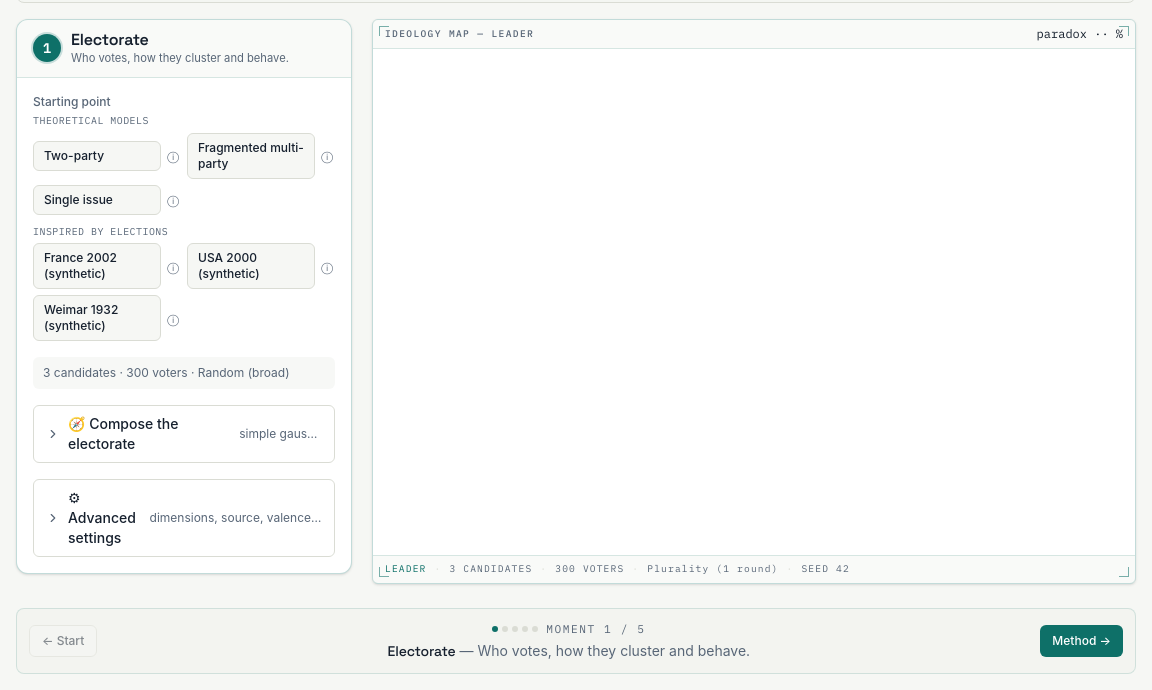
Test: PlaygroundPage (P0 shell) › the dimension knob reshapes the leader canvas (1-D line, 3-D z controls)
(page scrolled)
Click the button with test id "electorate-advanced-toggle".
click(184, 518)  # box [34,480,334,556]
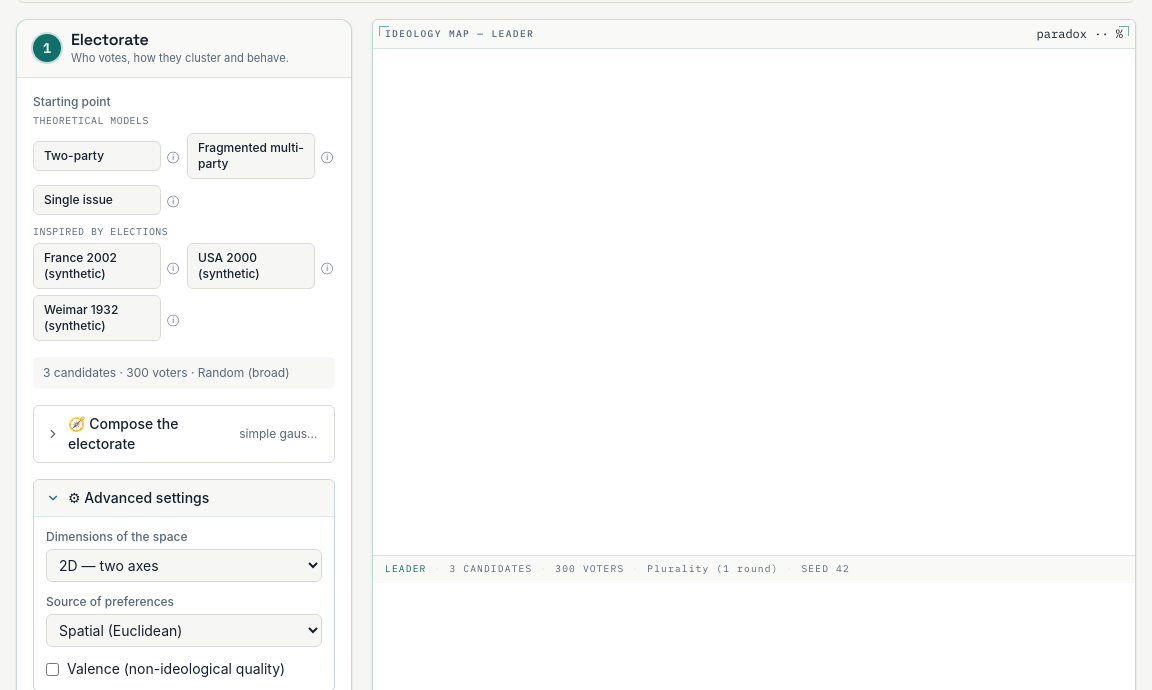
# 1-D → the canvas collapses to a line.
Select "1D — a single axis" in the dropdown labelled "Dimensions of the space" at (184, 566), box [46,549,322,582]
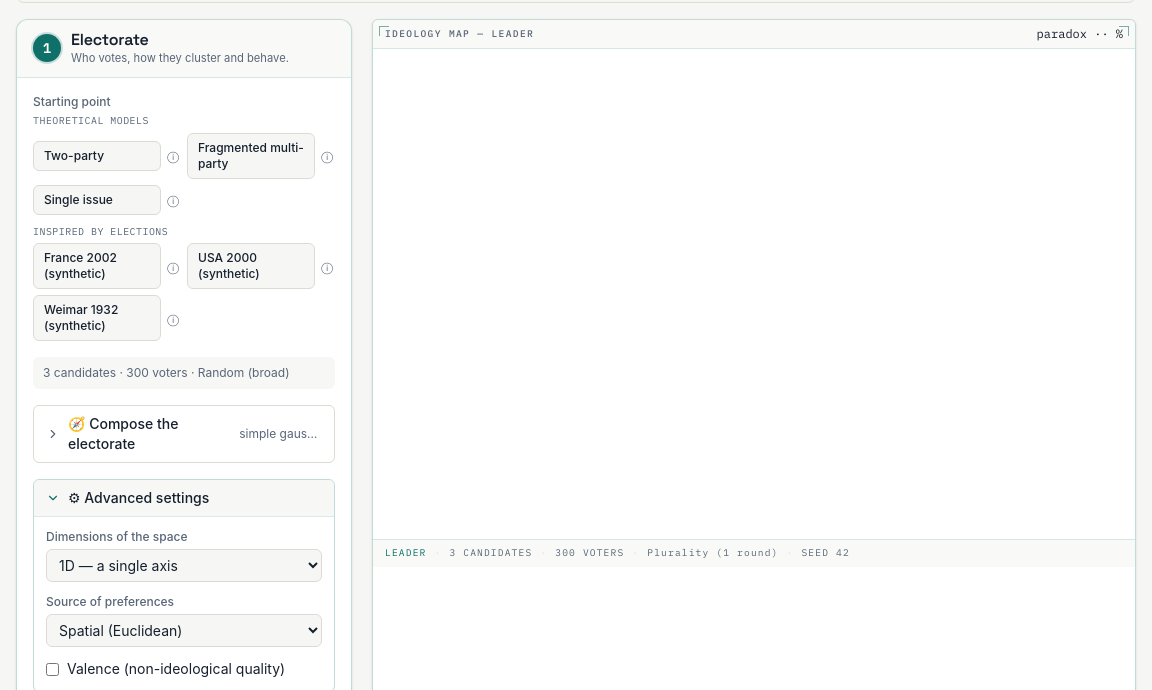
# 3-D → per-candidate z sliders appear.
Select "3D — three axes" in the dropdown labelled "Dimensions of the space" at (184, 566), box [46,549,322,582]
(page scrolled)
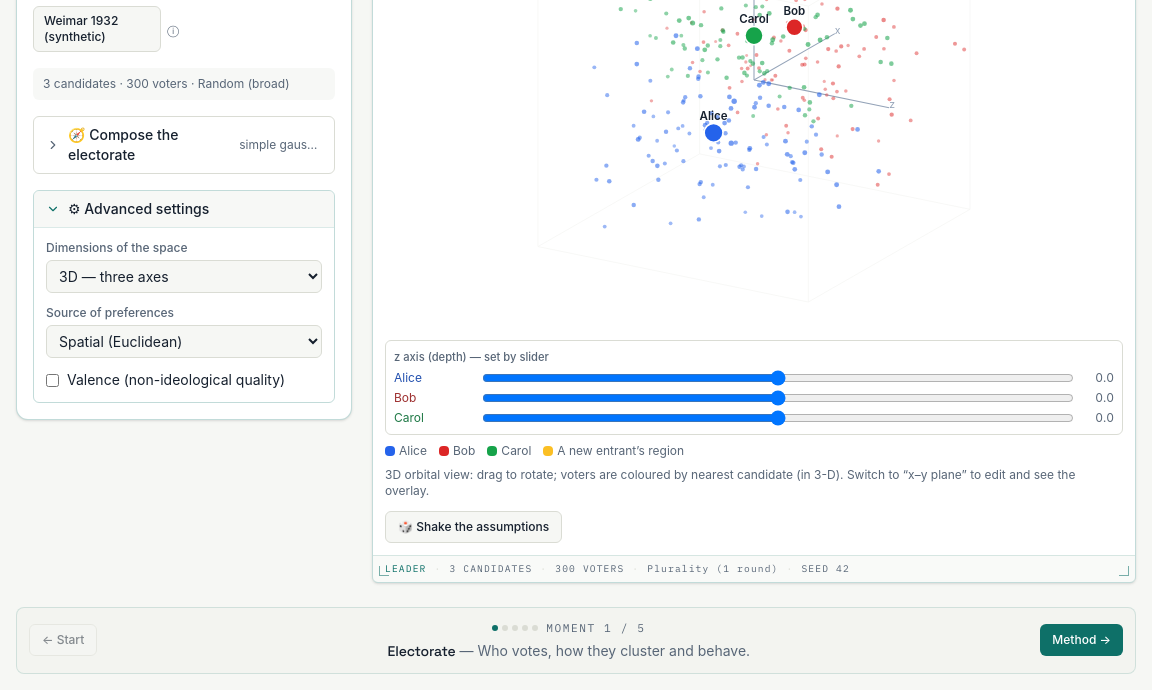
Check: the element with test id "z-controls" is shown, box [385,340,1123,435]
